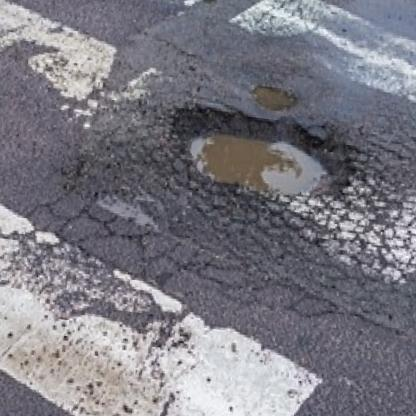pothole: (166, 103, 354, 211), (249, 81, 301, 116)
